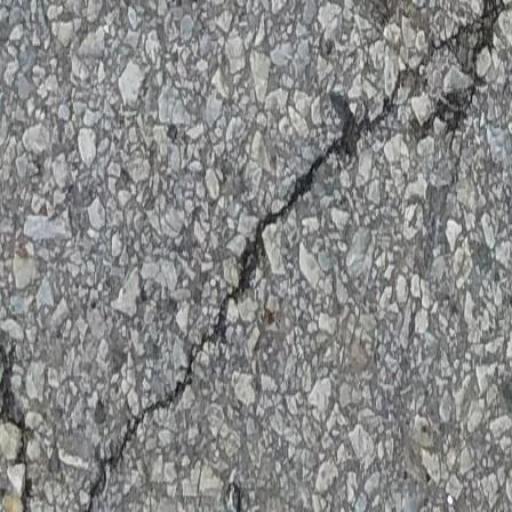spalling: (78, 0, 506, 512)
